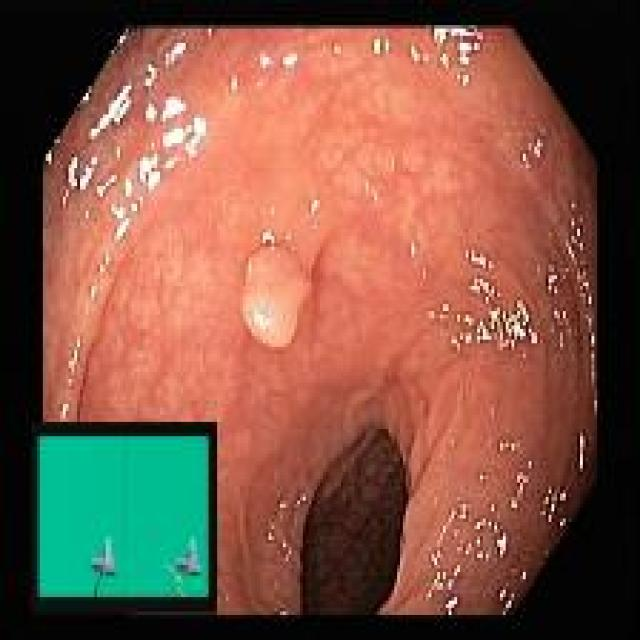Polyps: (241, 247, 312, 347)
